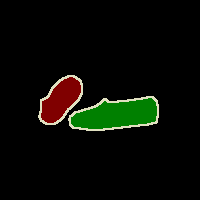shoe: (69, 96, 158, 130), (39, 76, 82, 124)
